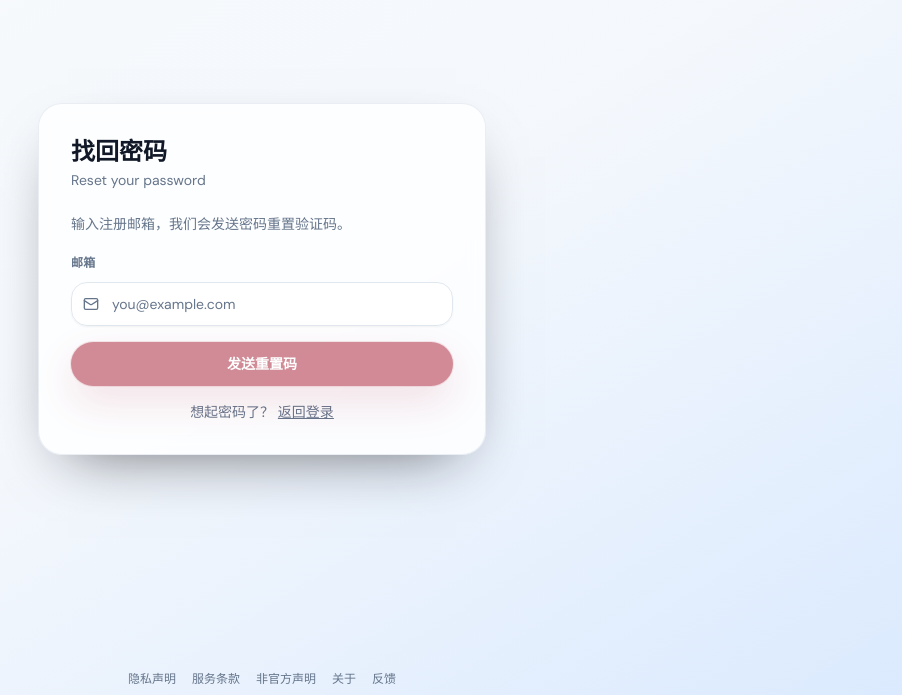
Test: ForgotPasswordPage › surfaces backend reset errors inline and stays on the reset step
Type "user@example.com" into the field with placeholder "you@example.com" at (262, 304), box [71,282,453,326]
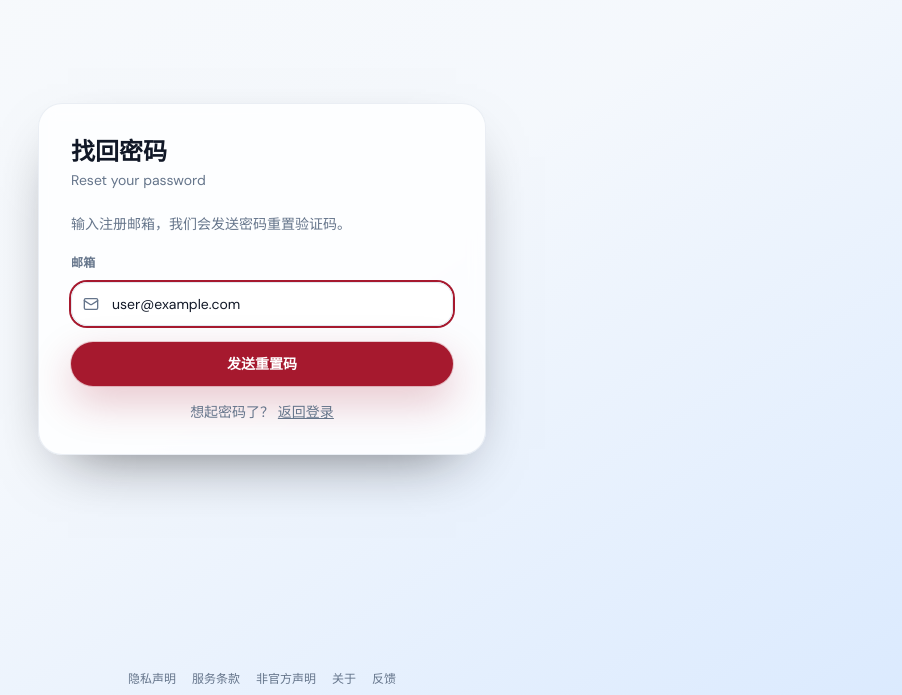
Click the button "发送重置码" at (262, 364), box [71,342,453,386]
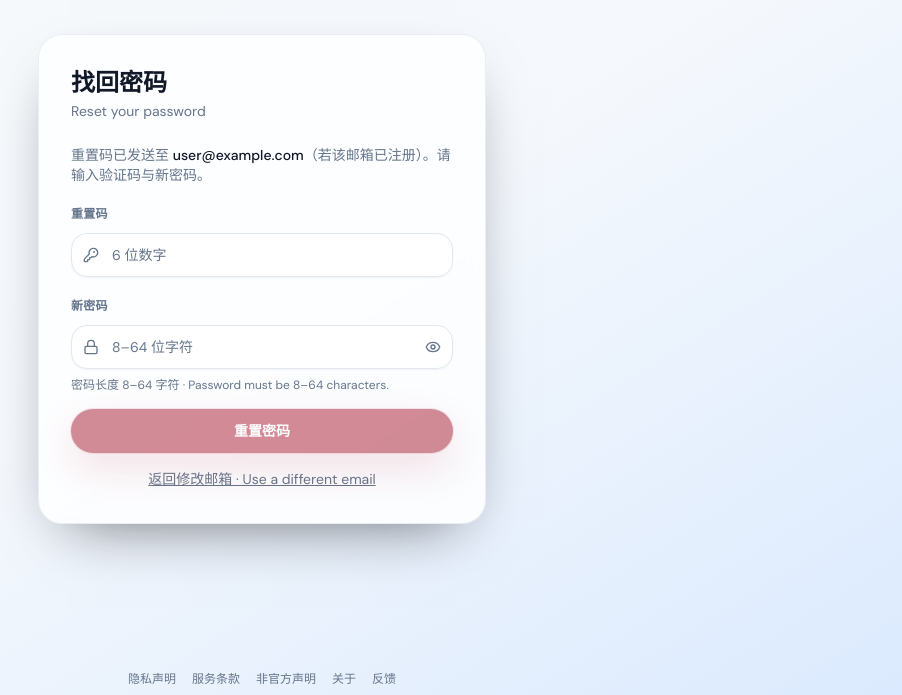
Check: the field with placeholder "6 位数字" is shown
Type "000000" into the field with placeholder "6 位数字" at (262, 255), box [71,233,453,277]
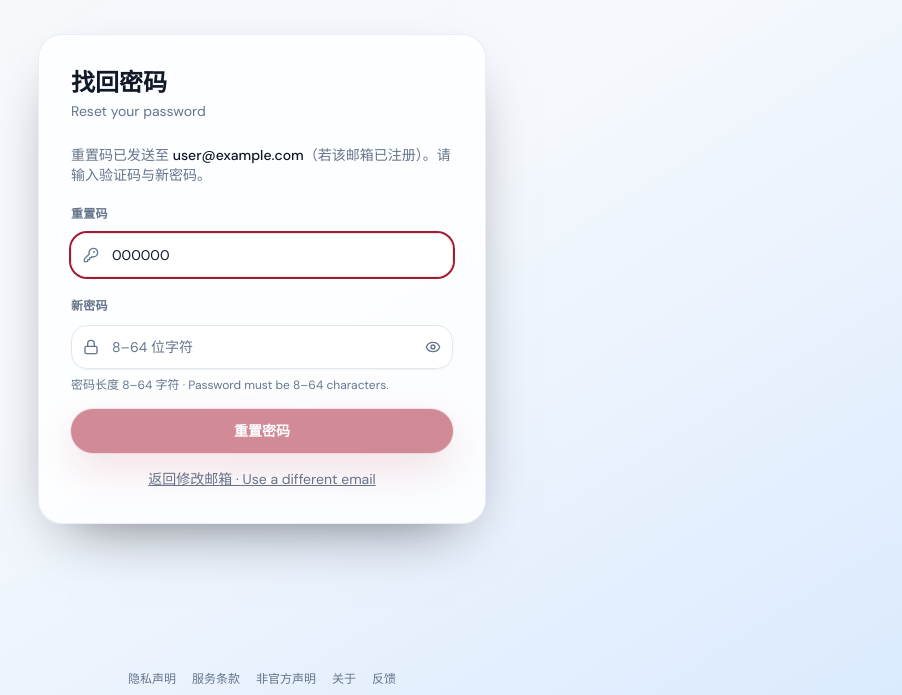
Type "newpassword8" into the password field with placeholder "8–64 位字符" at (262, 347), box [71,325,453,369]
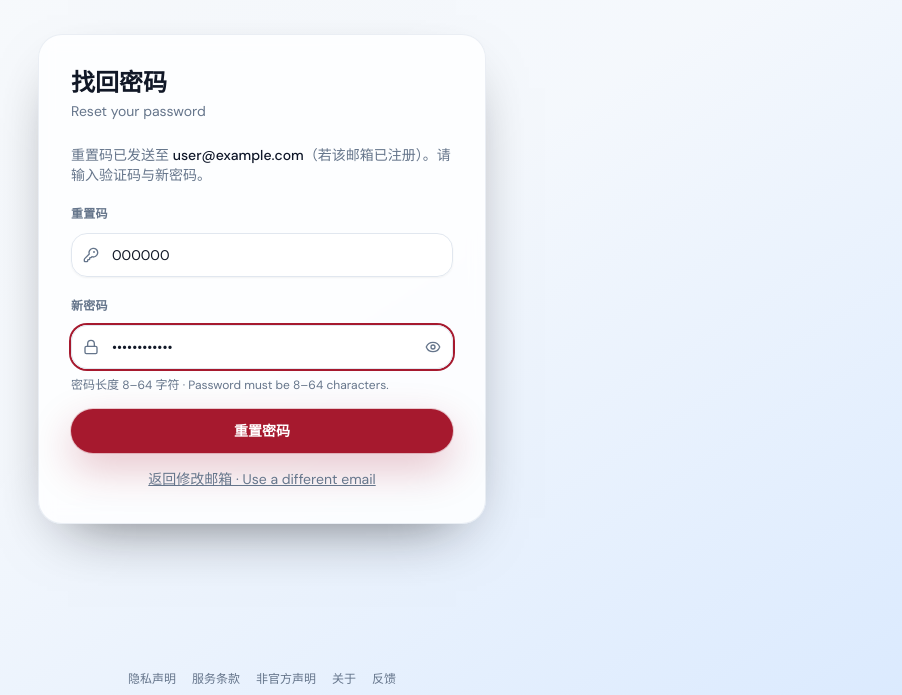
Click the button "重置密码" at (262, 431), box [71,409,453,453]
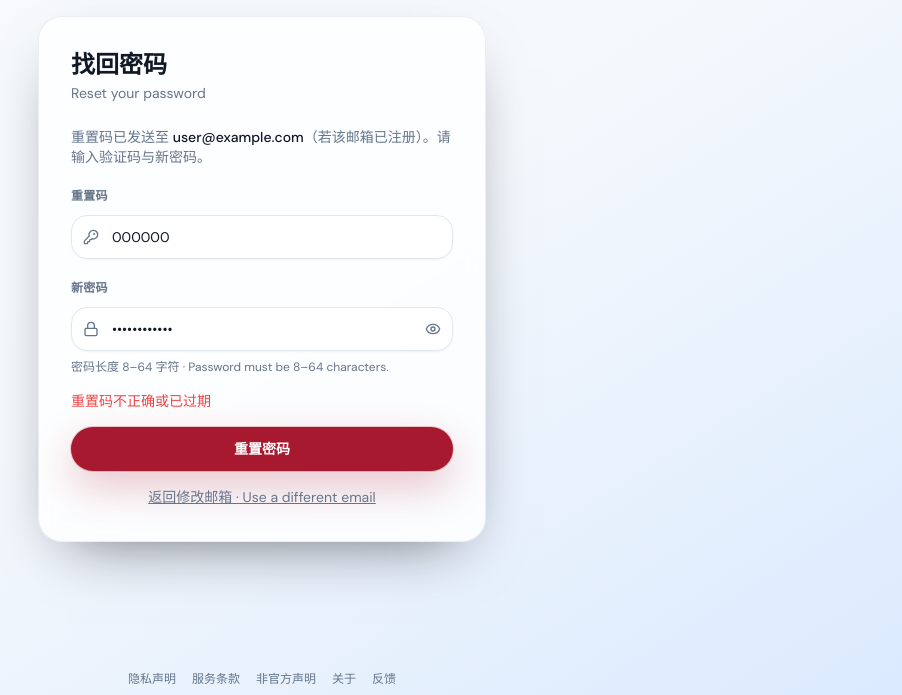
Check: the text "重置码不正确或已过期" is shown, box [71,392,211,410]
